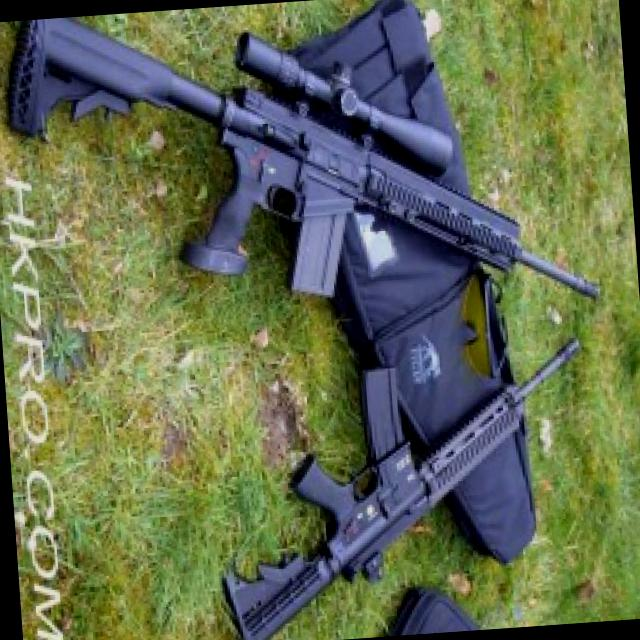long weapon: (41, 13, 617, 327), (177, 321, 598, 627)
